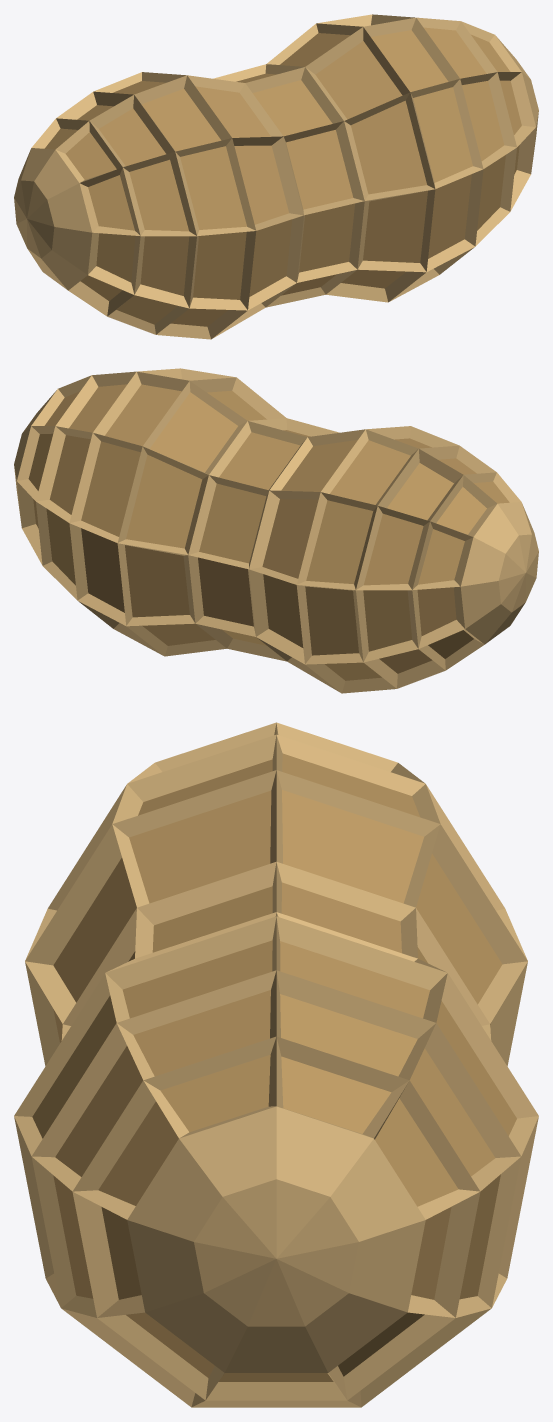
The model's file is peanut.glb.
The picture shows the model from 3 angles, top to bottom: view 1: azimuth 30°, elevation 25°; view 2: azimuth 150°, elevation 25°; view 3: azimuth 270°, elevation 25°; orthographic projection. The views are drawn at different scales.
Parts seen in each view (by area): view 1: Peanut; view 2: Peanut; view 3: Peanut.
Boxes of the visible parts, box(x1,y1,x2,y2) form: Peanut: box(14, 14, 538, 339); Peanut: box(14, 368, 538, 693); Peanut: box(14, 722, 538, 1407).
Size of the model in its own units: 0.6 by 0.2973 by 0.3019.
